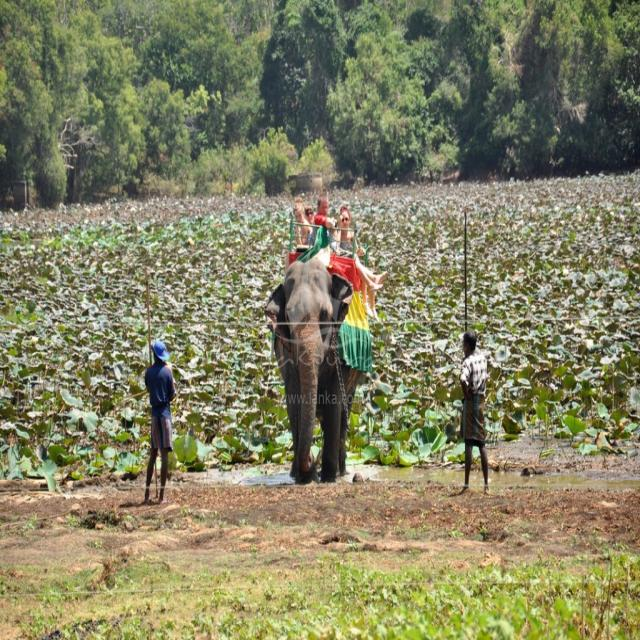elephant: (269, 257, 366, 476)
